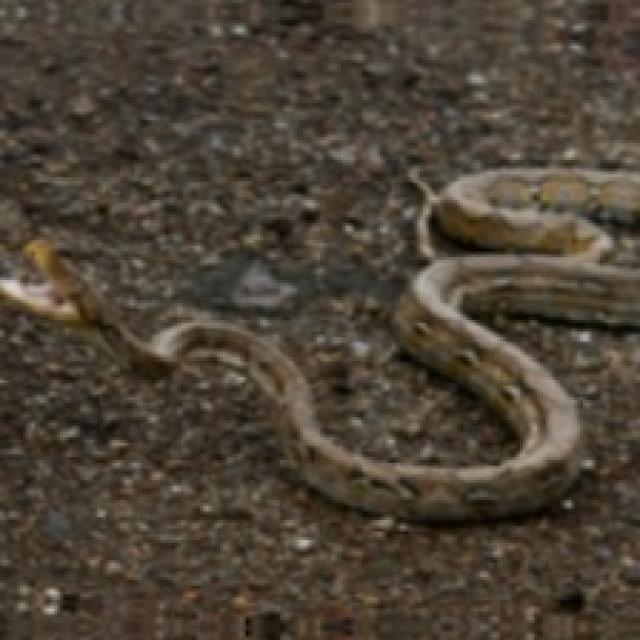reticulated python: (26, 169, 640, 521)
